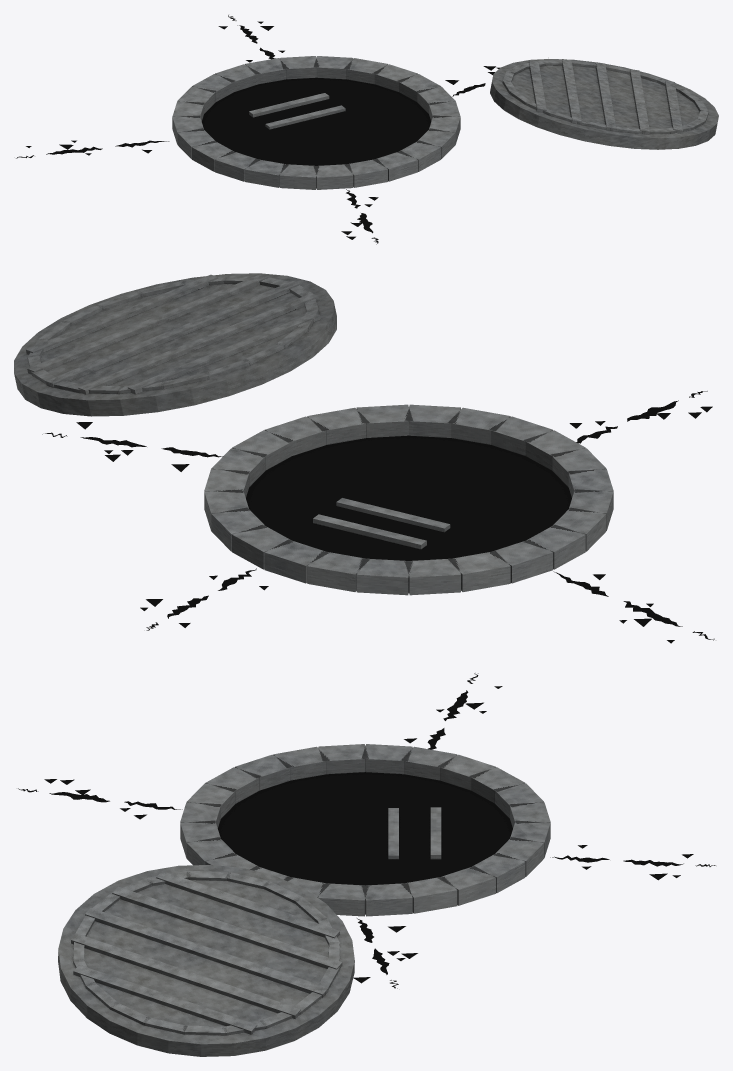
Rendered from trap_city_heavy_sprung.glb.
The picture shows the model from 3 angles, top to bottom: view 1: azimuth 30°, elevation 25°; view 2: azimuth 150°, elevation 25°; view 3: azimuth 270°, elevation 25°; orthographic projection. The views are drawn at different scales.
Visible parts, largest first — view 1: trap_city_heavy_sprung.001; view 2: trap_city_heavy_sprung.001; view 3: trap_city_heavy_sprung.001.
Part boxes in pixels (box(x1,y1,x2,y2)): trap_city_heavy_sprung.001: box(16, 15, 718, 244); trap_city_heavy_sprung.001: box(14, 273, 714, 643); trap_city_heavy_sprung.001: box(18, 673, 715, 1056).
Size of the model in its own units: 2.46 by 0.2279 by 2.
Materials: 3 (3 with a texture image).
